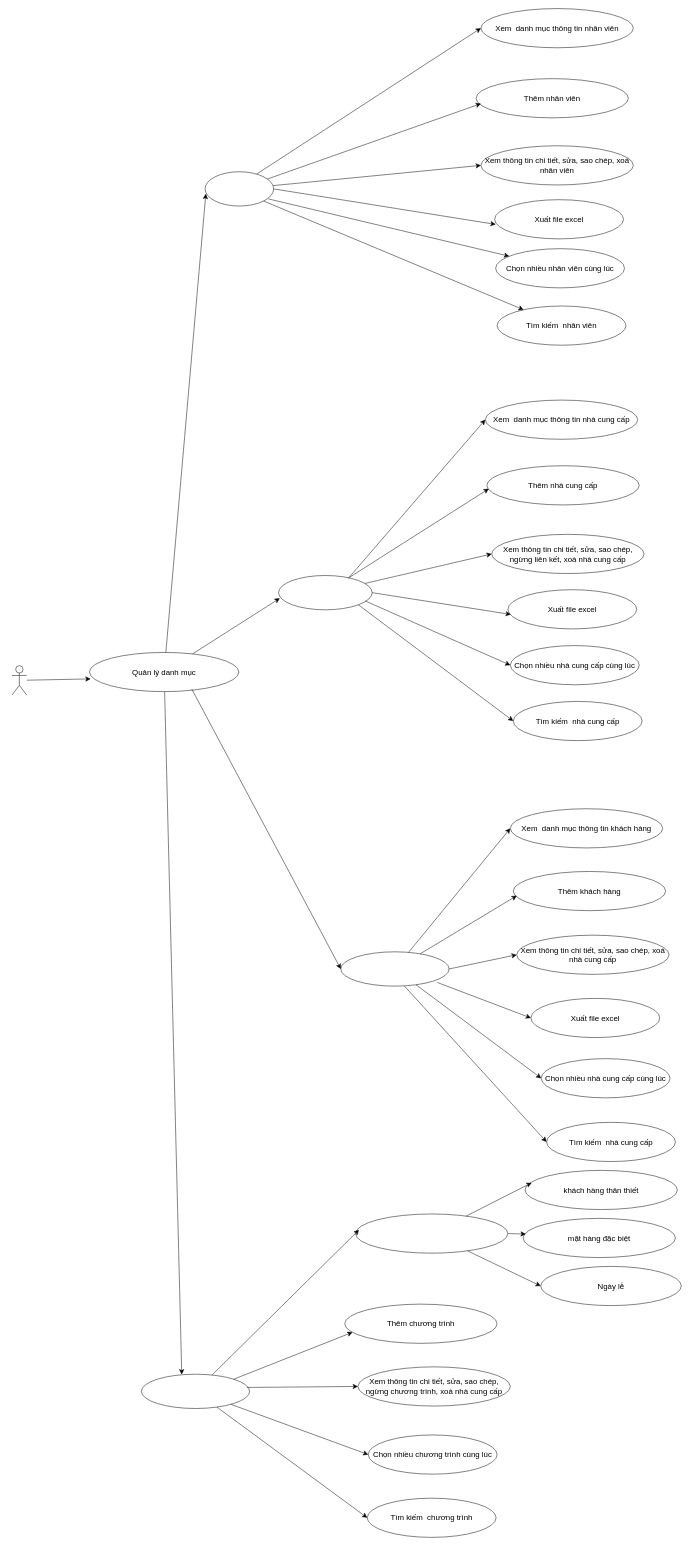
This 690x1546 diagram has some shape labels left out. Each missing label, with the centre of its shape:
Admin: (19,680)
Quản lý chương trình khuyến mãi: (195,1391)
Quản lý khách hàng thân thiết: (394,968)
Quản lý nhà cung cấp: (325,592)
Quản lý nhân viên: (239,188)
Xem danh mục thông tin khuyến mãi: (431,1233)
